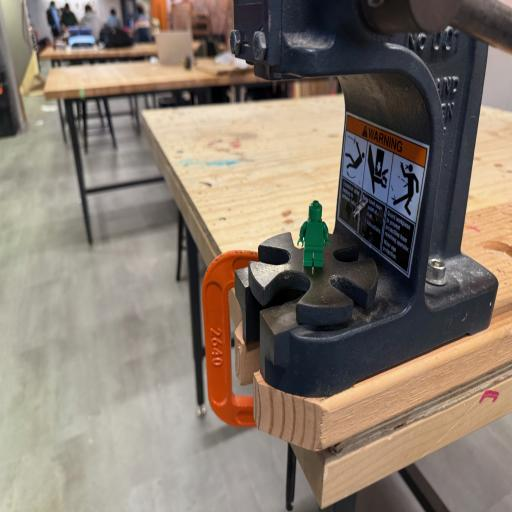Lego-Dude: (297, 200, 330, 267)
